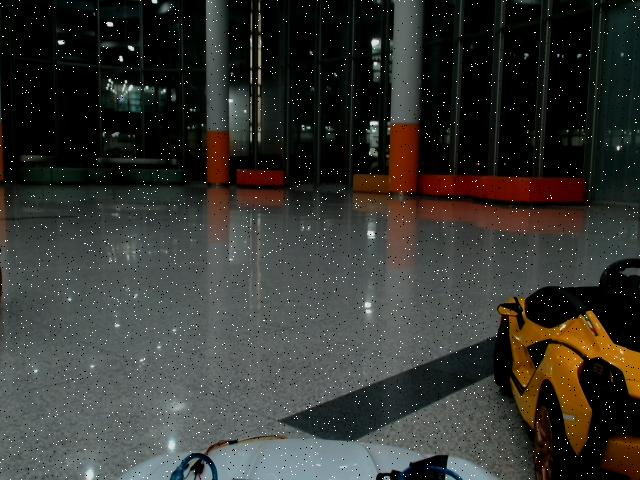car: (493, 259, 640, 480)
